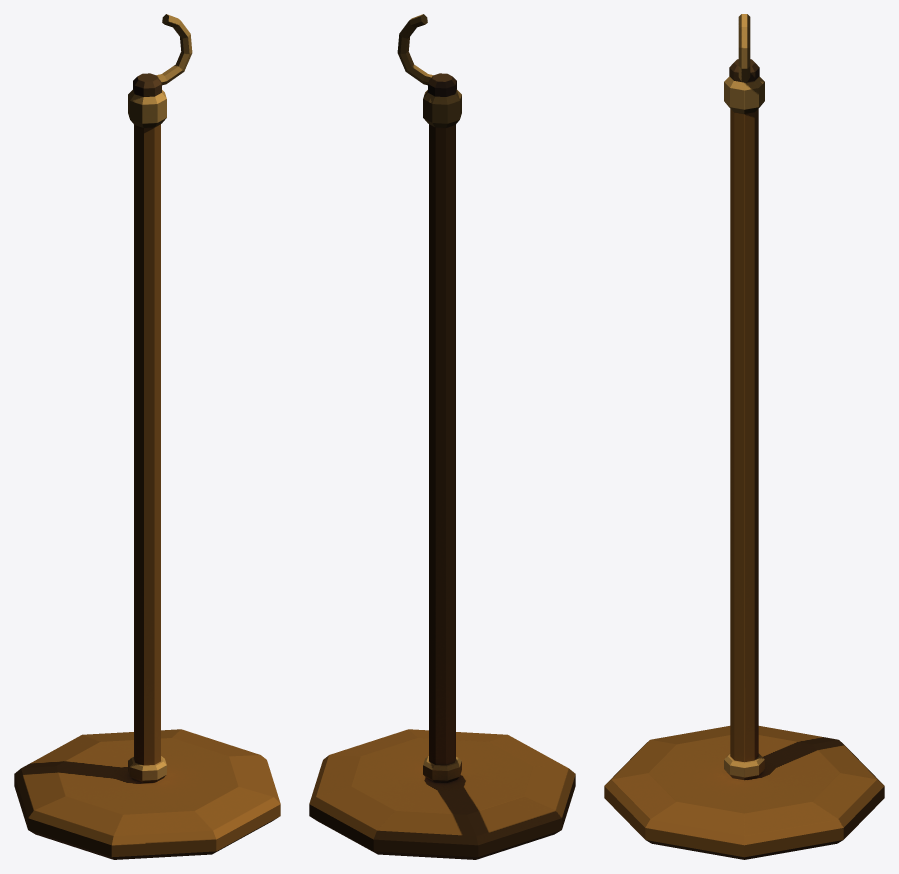
File: 0-20261016-1900-ev003-r01-lobby-stanchion_baked.glb
3 renders of one model, left to right at view 1: azimuth 30°, elevation 25°; view 2: azimuth 150°, elevation 25°; view 3: azimuth 270°, elevation 25°, orthographic.
Visible parts, largest first — view 1: SW_Lobby_Stanchion; view 2: SW_Lobby_Stanchion; view 3: SW_Lobby_Stanchion.
Boxes of the visible parts, x1,y1,x2,y2 form: SW_Lobby_Stanchion: [14, 14, 280, 859]; SW_Lobby_Stanchion: [309, 14, 575, 859]; SW_Lobby_Stanchion: [604, 14, 884, 859].
Bounding box in the file's own units: 0.316 × 0.9989 × 0.316.
Materials: 1 (1 with a texture image).
